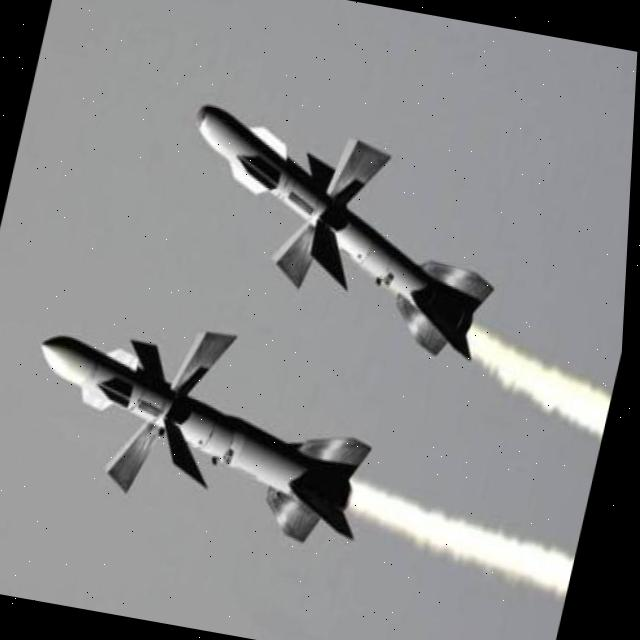missile: (148, 90, 523, 369), (9, 302, 399, 558)
